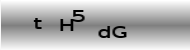5: (71, 9, 85, 22)
G: (111, 25, 128, 39)
H: (59, 18, 73, 32)
d: (97, 25, 111, 39)
t: (33, 16, 42, 30)
